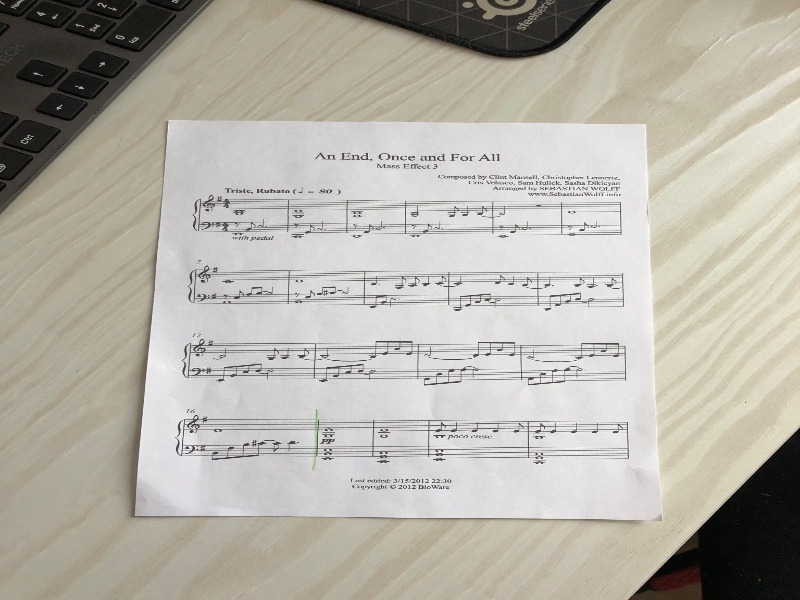document: (132, 118, 665, 518)
